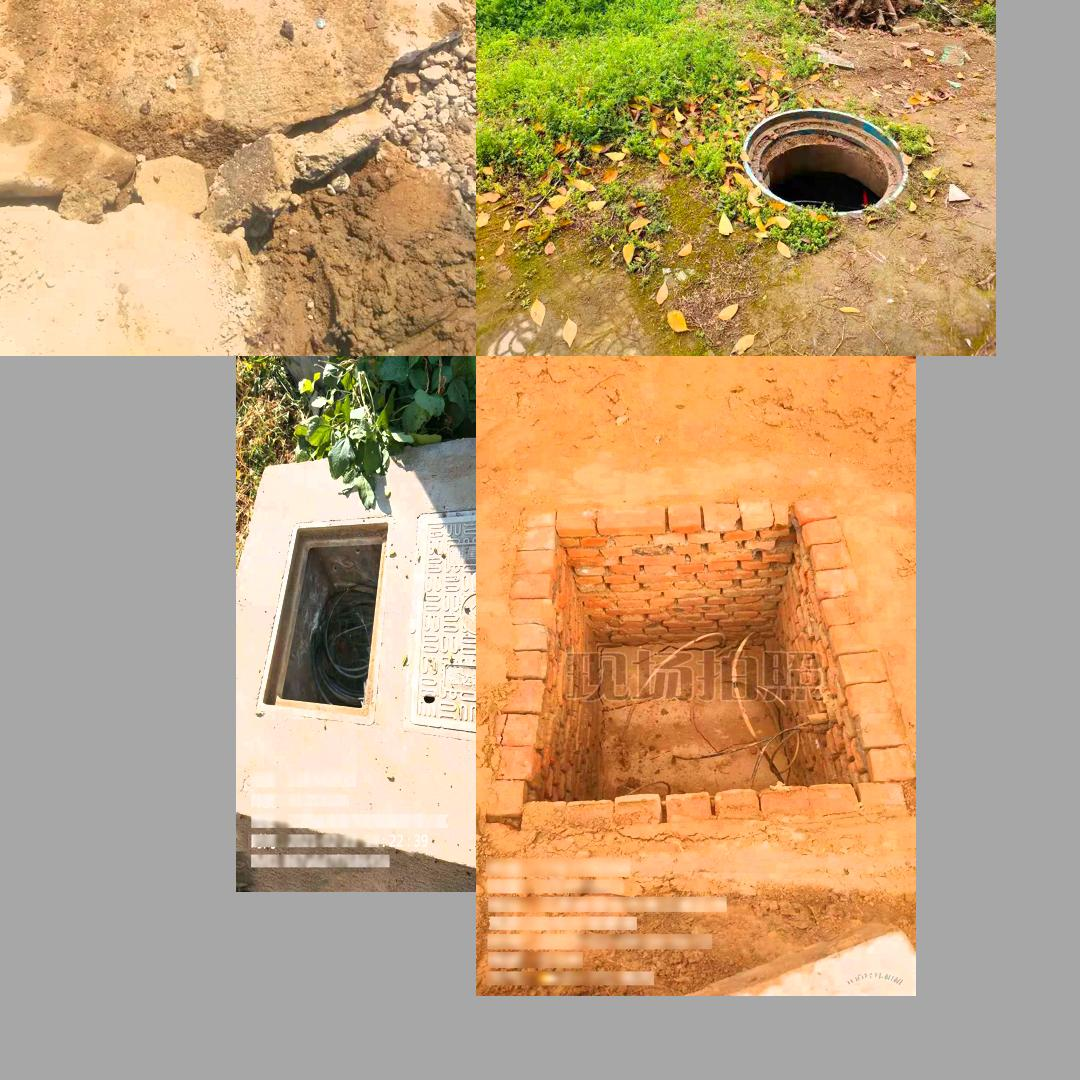lose: (517, 523, 875, 803), (256, 515, 393, 726), (738, 108, 905, 219)
